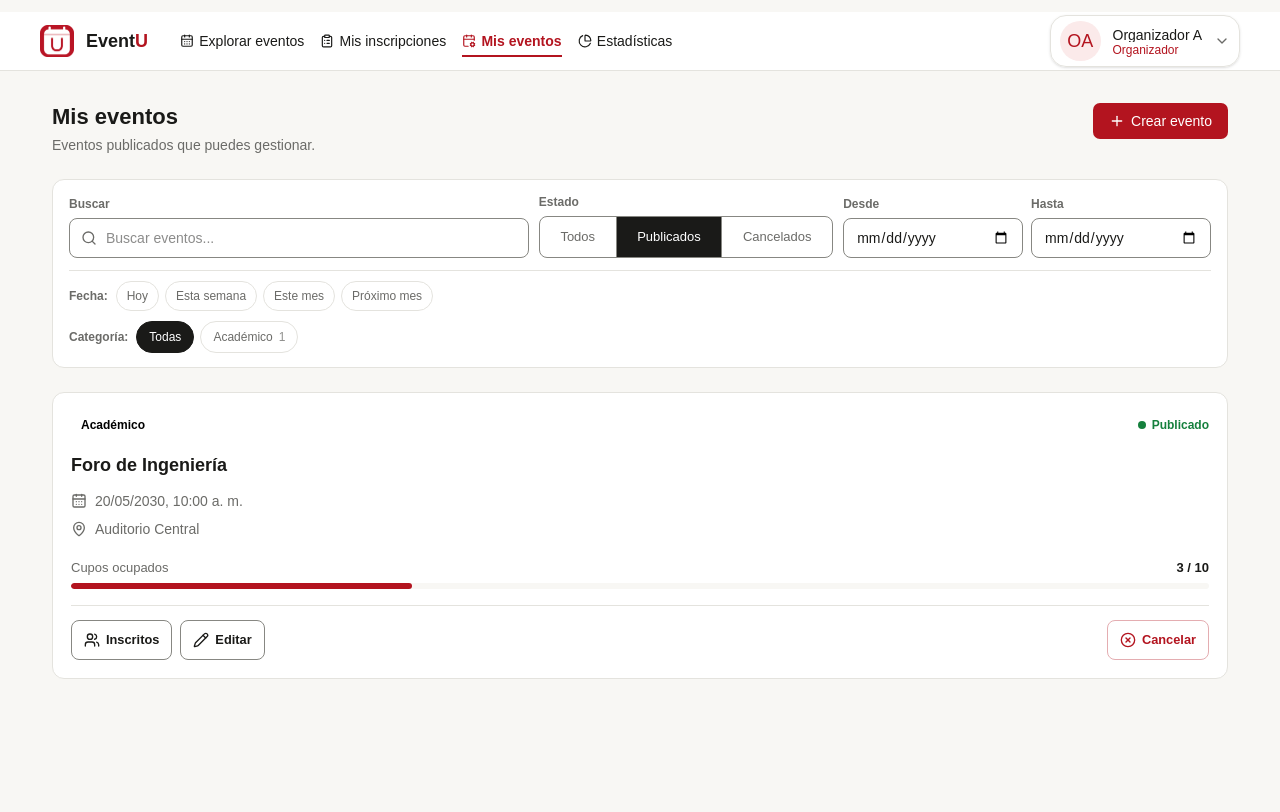
Test: Gestión de eventos del organizador (HU-05, HU-06, HU-07) › edita un evento y vuelve a Mis eventos con el título nuevo
Click the link with aria-label "Editar evento Foro de Ingeniería" at (222, 640), box 180,620 -> 265,660
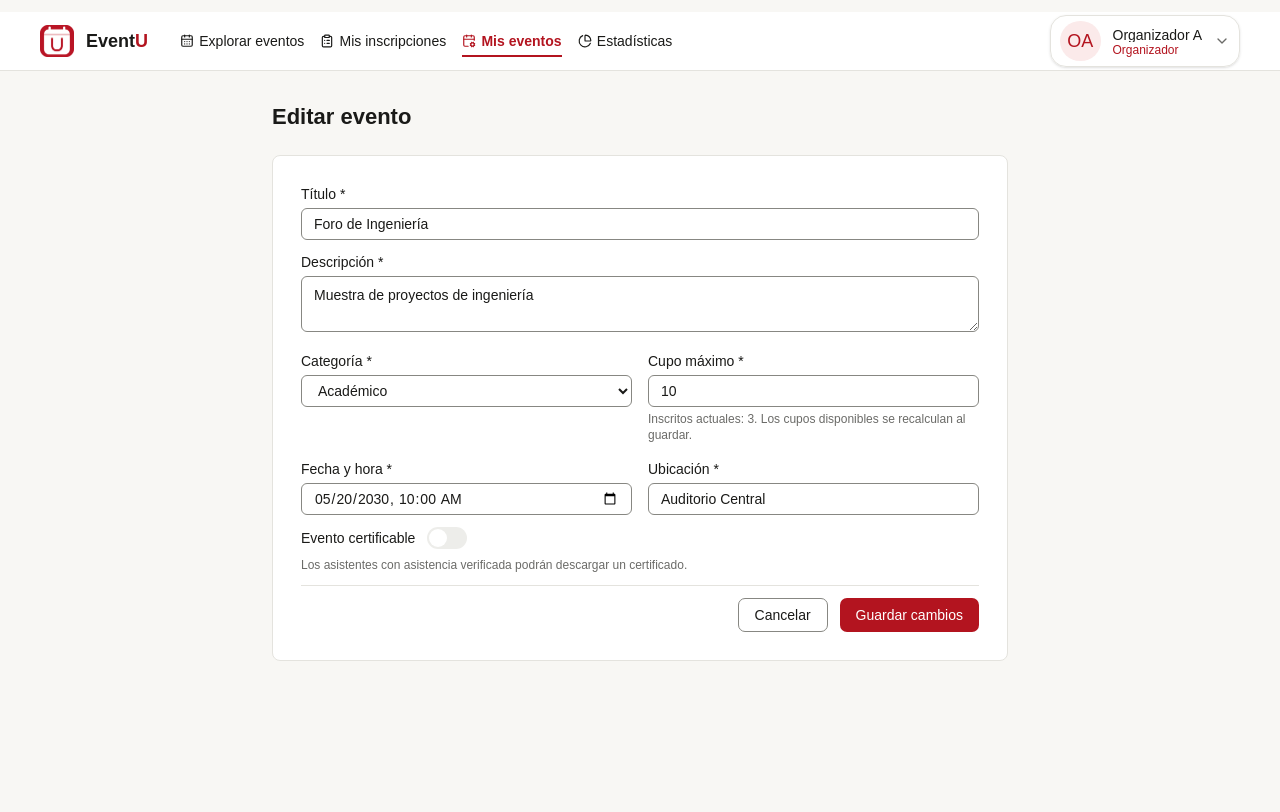
Replace the text in the field labelled "Título *" with "Nuevo título" at (640, 224), box 301,208 -> 979,240
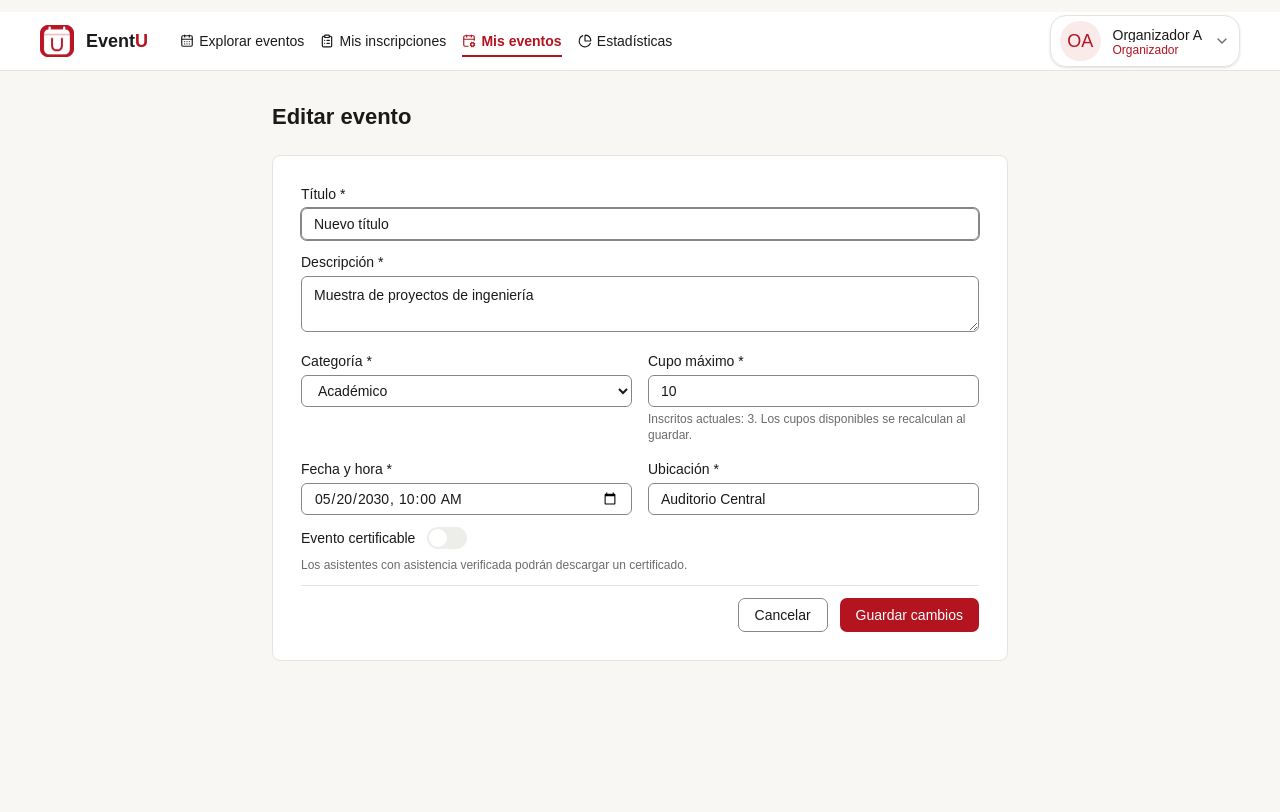
Click the button "Guardar cambios" at (909, 615), box 840,598 -> 979,632
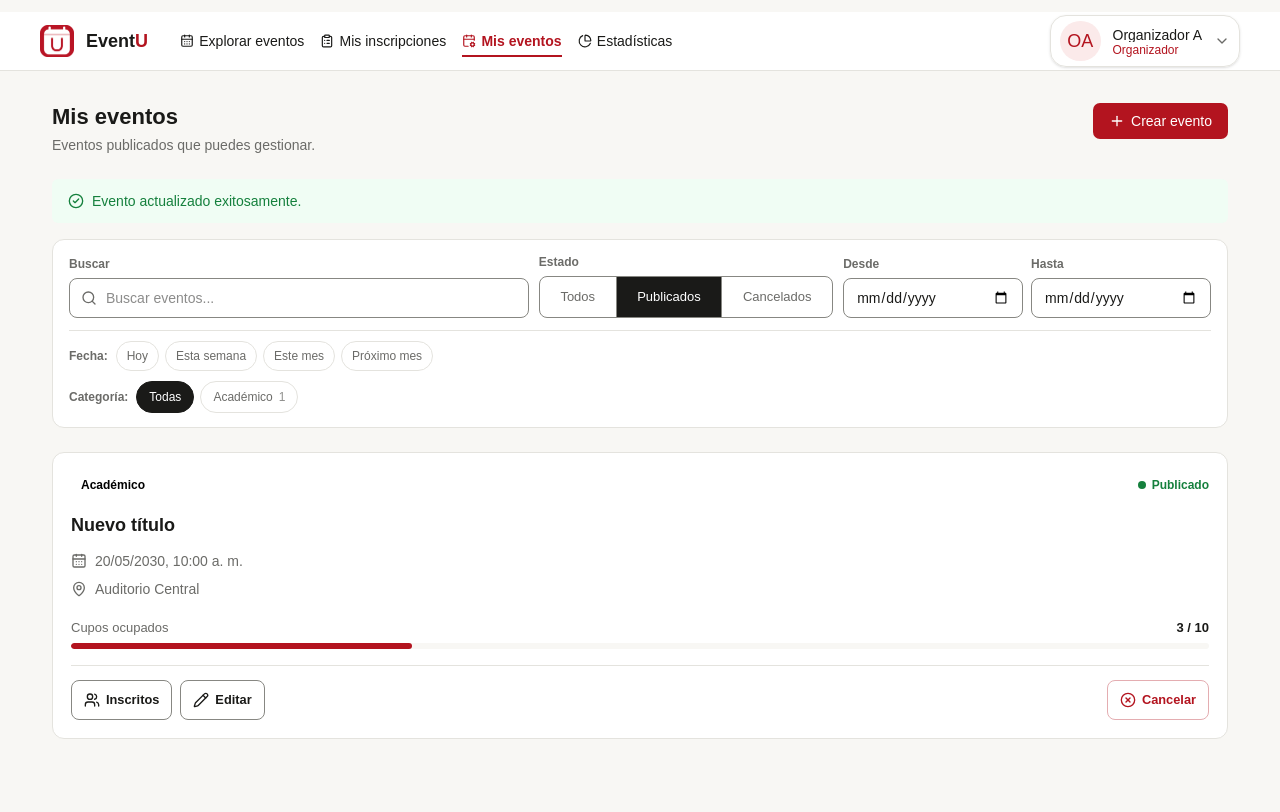
Result: the text "Evento actualizado exitosamente." is shown at 92,191 -> 301,211
Result: the heading "Nuevo título" is shown at 71,515 -> 175,535
